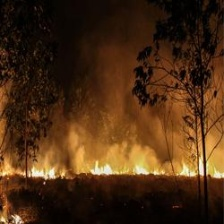fire: (2, 152, 224, 179)
